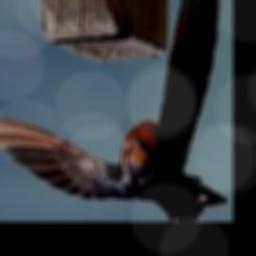Swallow: (0, 0, 228, 222)
